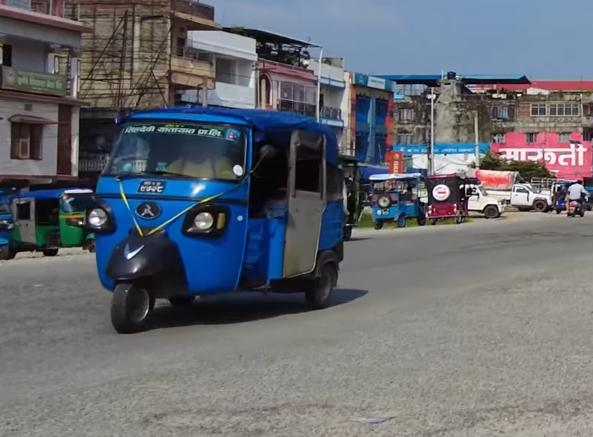auto_rickshaw: (80, 100, 353, 341), (10, 182, 99, 256)
e-rickshaw: (364, 170, 429, 230), (425, 173, 468, 226)
transport_vehicle: (478, 166, 552, 213)
